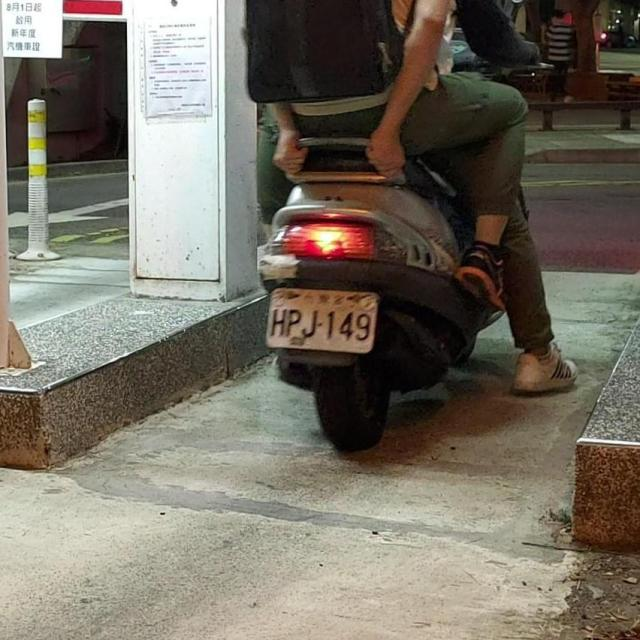W: (259, 277, 384, 359)
